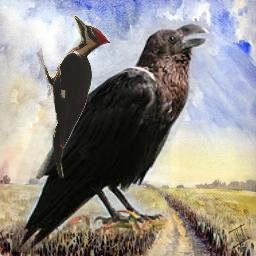Crow: (12, 21, 216, 252)
Woodpecker: (36, 15, 110, 178)
